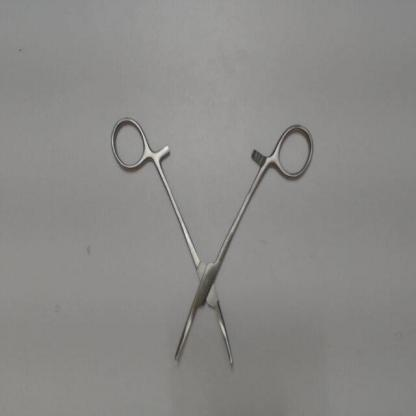Crile Artery Forceps: (96, 108, 319, 378)
